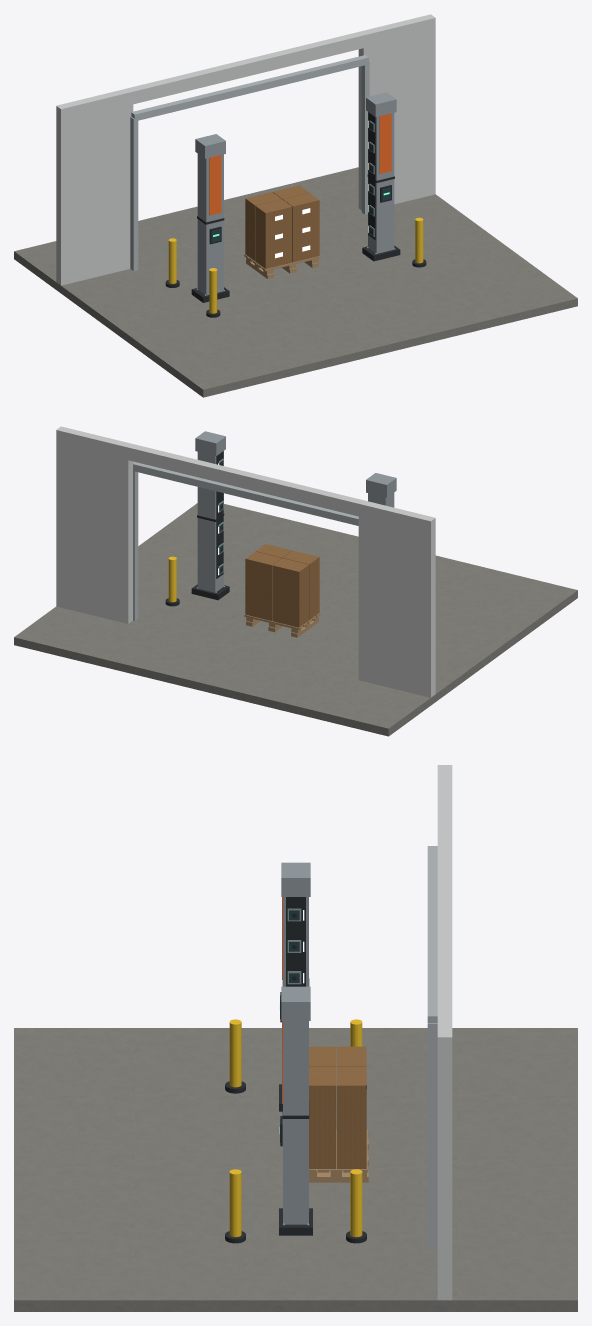
3 views of the same model, one above another, from view 1: azimuth 30°, elevation 25°; view 2: azimuth 150°, elevation 25°; view 3: azimuth 270°, elevation 25° (orthographic). The views are drawn at different scales.
Parts seen in each view (by area): view 1: Warehouse concrete floor, Dock wall panel, Dock wall panel.001, Dock wall lintel, Dock door header, Tower lower housing, Tower lower housing.001, Dock door side frame, Tower upper housing, Dock door side frame.001, Freight carton.008, Camera service panel.001 (+11 smaller); view 2: Warehouse concrete floor, Dock wall panel, Dock wall panel.001, Dock wall lintel, Dock door header, Tower lower housing.001, Freight carton.009, Dock door side frame.001, Freight carton.011, Tower upper housing.001, Freight carton.005, Freight carton.001 (+7 smaller); view 3: Warehouse concrete floor, Dock wall panel.001, Tower lower housing.001, Dock wall lintel, Dock door side frame.001, Tower upper housing.001, Dock door header, Freight carton.011, Freight carton.010, Camera service panel, Tower head, Tower head.001 (+8 smaller).
Boxes of the visible parts, bbox=[...] form: Warehouse concrete floor: bbox=[14, 167, 577, 397]; Dock wall panel: bbox=[56, 88, 133, 285]; Dock wall panel.001: bbox=[358, 14, 435, 209]; Dock wall lintel: bbox=[128, 32, 363, 104]; Dock door header: bbox=[131, 55, 368, 120]; Tower lower housing: bbox=[197, 219, 223, 295]; Tower lower housing.001: bbox=[368, 177, 394, 253]; Dock door side frame: bbox=[130, 116, 138, 270]; Tower upper housing: bbox=[197, 154, 223, 222]; Dock door side frame.001: bbox=[361, 61, 369, 214]; Freight carton.008: bbox=[255, 199, 292, 231]; Camera service panel.001: bbox=[368, 112, 375, 239]; Warehouse concrete floor: bbox=[14, 503, 577, 736]; Dock wall panel: bbox=[358, 500, 435, 697]; Dock wall panel.001: bbox=[56, 426, 133, 623]; Dock wall lintel: bbox=[128, 444, 363, 516]; Dock door header: bbox=[133, 461, 358, 525]; Tower lower housing.001: bbox=[197, 516, 223, 592]; Freight carton.009: bbox=[272, 558, 309, 590]; Dock door side frame.001: bbox=[133, 468, 138, 620]; Freight carton.011: bbox=[245, 551, 281, 583]; Tower upper housing.001: bbox=[197, 451, 223, 519]; Freight carton.005: bbox=[272, 583, 309, 608]; Freight carton.001: bbox=[272, 602, 309, 627]; Warehouse concrete floor: bbox=[14, 1028, 577, 1311]; Dock wall panel.001: bbox=[437, 985, 452, 1300]; Tower lower housing.001: bbox=[283, 1119, 308, 1224]; Dock wall lintel: bbox=[437, 817, 452, 984]; Dock door side frame.001: bbox=[427, 1023, 437, 1249]; Tower upper housing.001: bbox=[283, 1021, 308, 1115]; Dock door header: bbox=[427, 846, 437, 1022]; Freight carton.011: bbox=[336, 1066, 366, 1113]; Freight carton.010: bbox=[309, 1066, 335, 1113]; Camera service panel: bbox=[286, 897, 305, 986]; Tower head: bbox=[281, 862, 310, 896]; Tower head.001: bbox=[281, 986, 310, 1020].
Size of the model in its own units: 8 by 3.76 by 7.
12 materials, 2 textured.
